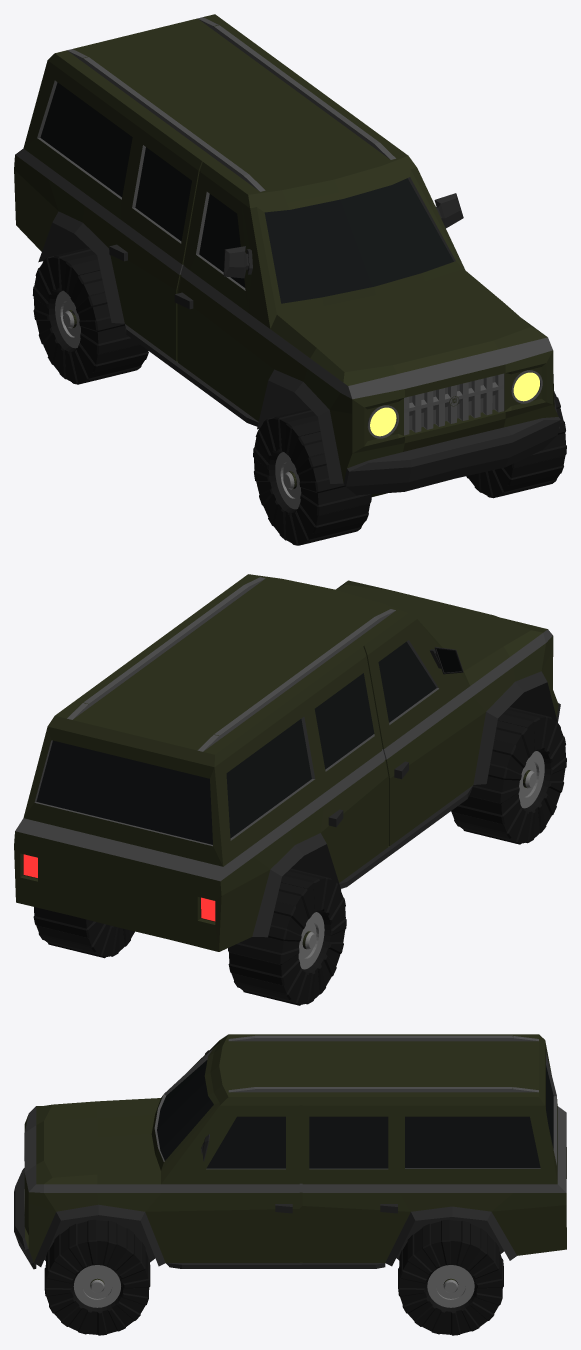
The model's file is offroad.fbx.
3 views of the same model, one above another, from view 1: azimuth 30°, elevation 25°; view 2: azimuth 150°, elevation 25°; view 3: azimuth 270°, elevation 25° (orthographic). The views are drawn at different scales.
Parts seen in each view (by area): view 1: Cube; view 2: Cube; view 3: Cube.
Boxes of the visible parts, x1,y1,x2,y2 form: Cube: (14,14,566,545); Cube: (14,574,566,1005); Cube: (14,1034,566,1335).
Size of the model in its own units: 500 by 529 by 1180.
